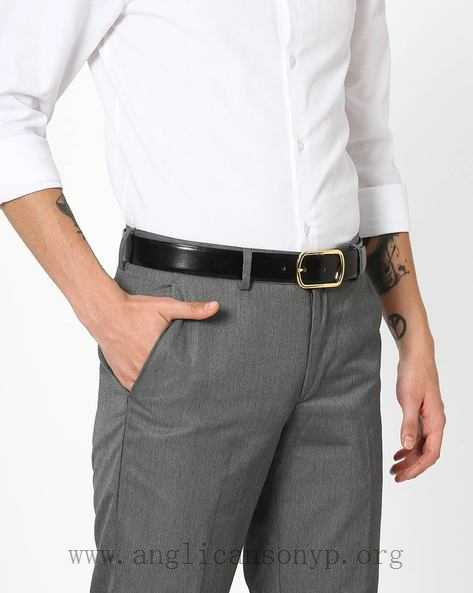F_belt: (115, 227, 374, 300)
F_dress pants: (80, 283, 394, 577)
F_shirt: (1, 1, 452, 250)
